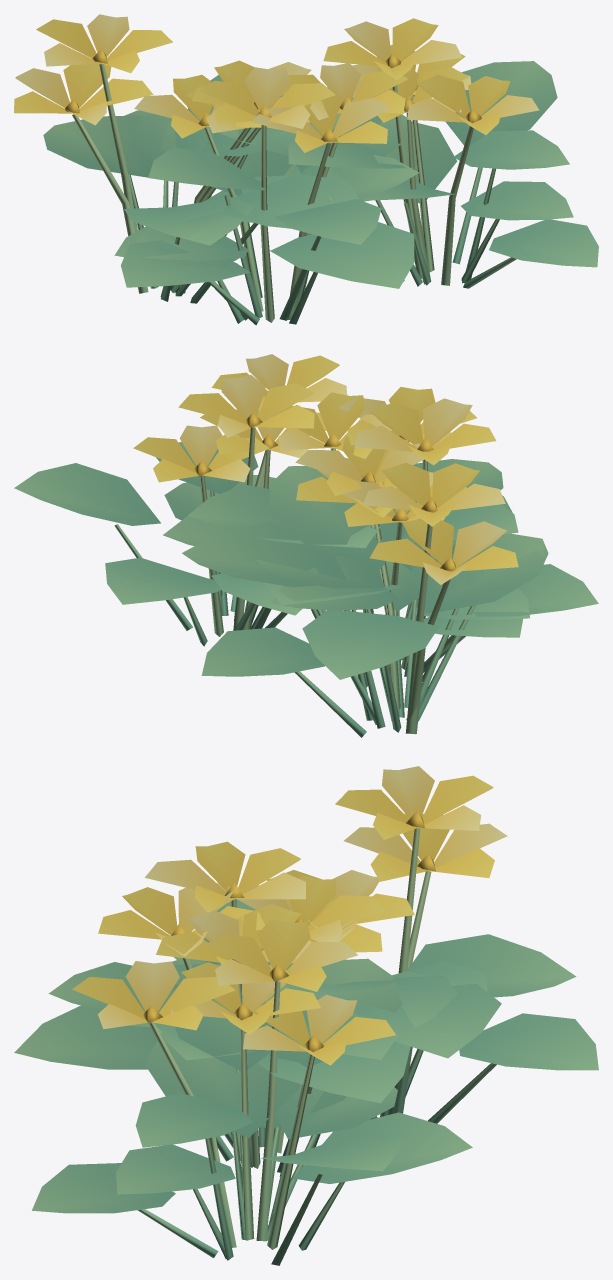
The model's file is kingcup_patch_b.glb.
3 views of the same model, one above another, from view 1: azimuth 30°, elevation 25°; view 2: azimuth 150°, elevation 25°; view 3: azimuth 270°, elevation 25° (orthographic). The views are drawn at different scales.
Parts seen in each view (by area): view 1: soft; view 2: soft; view 3: soft.
Boxes of the visible parts, left/top/right/bottom form: soft: left=14, top=14, right=598, bottom=325; soft: left=14, top=354, right=598, bottom=737; soft: left=14, top=766, right=598, bottom=1265.
Bounding box in the file's own units: 0.6406 × 0.3101 × 0.5491.
